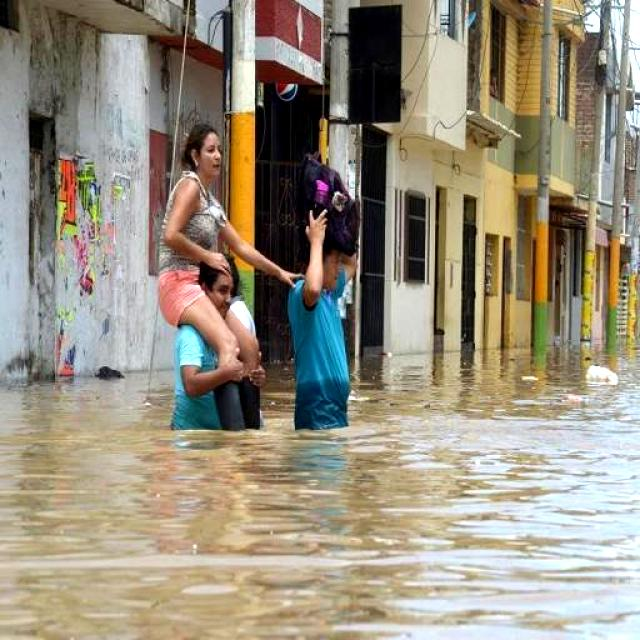civilian: (152, 118, 300, 440), (277, 215, 363, 452), (175, 252, 252, 449)
